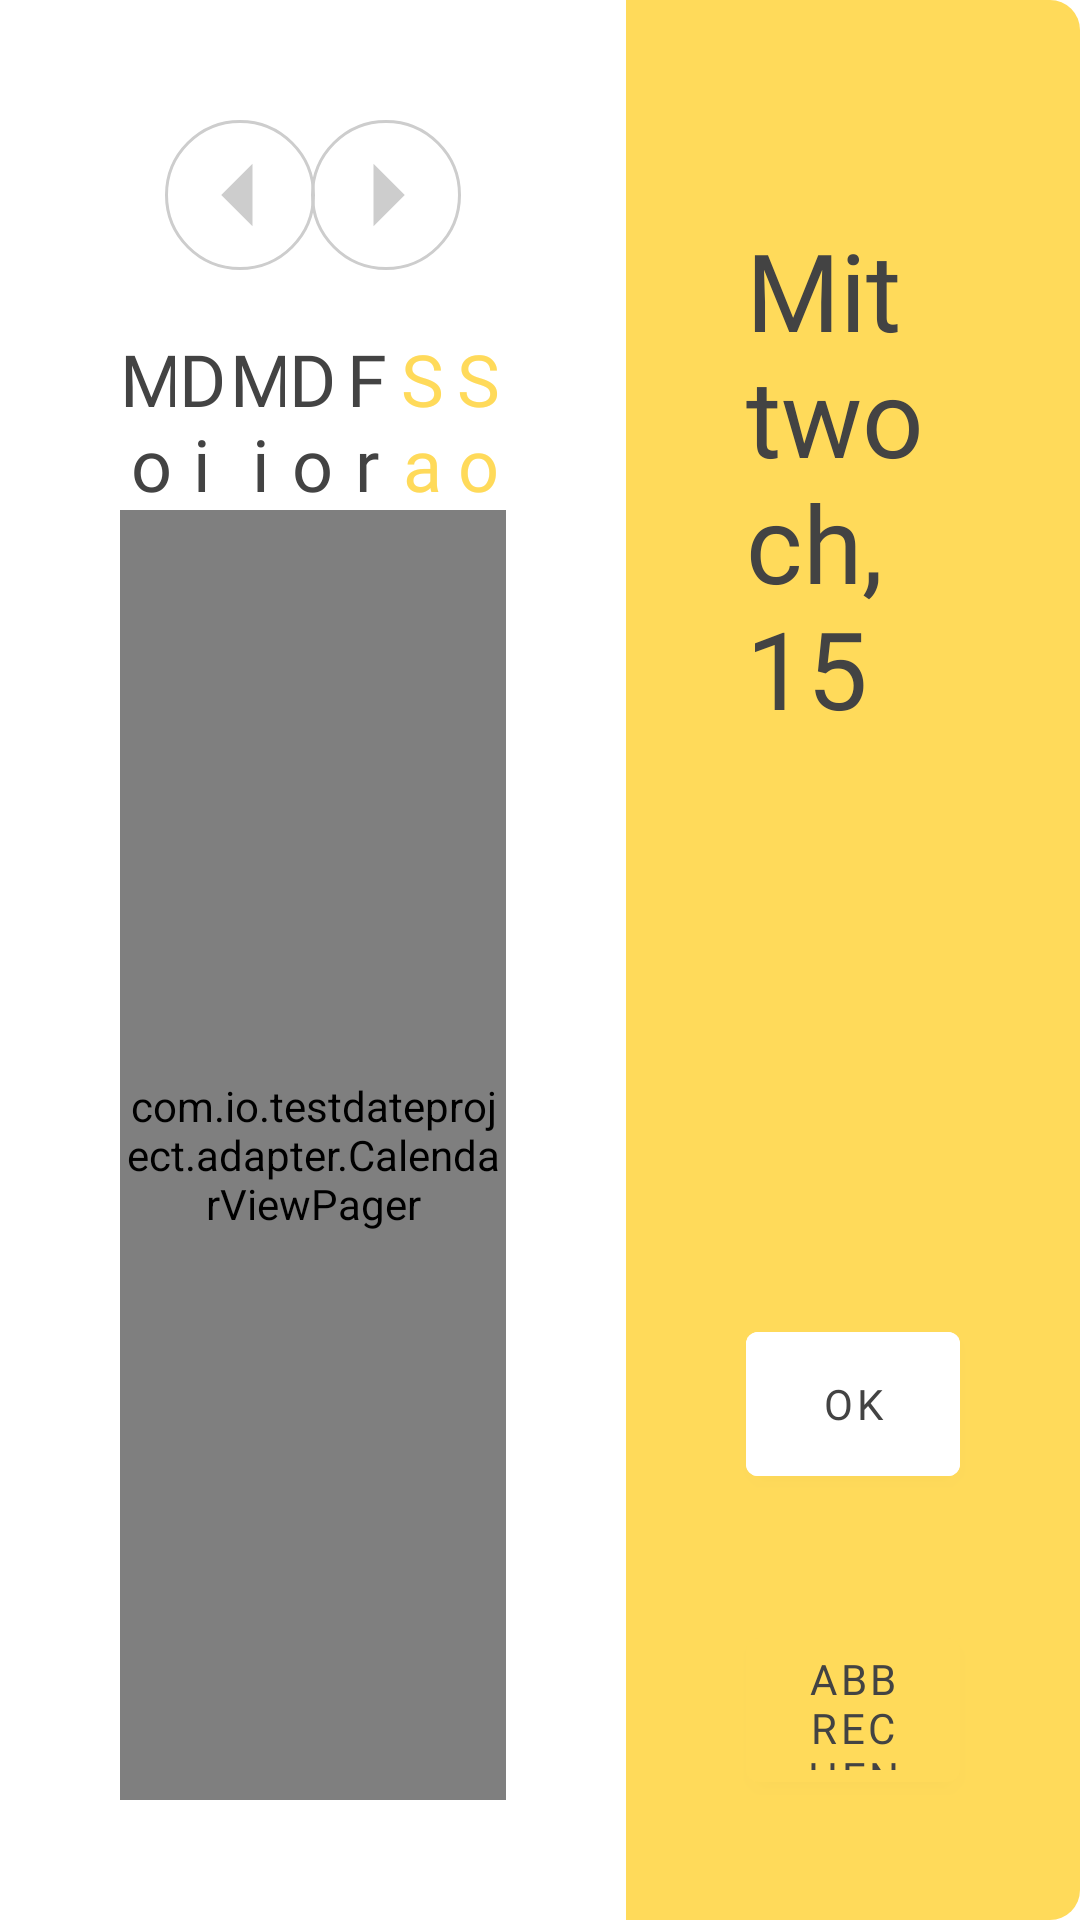

Icon click points for this 1080w x 1920h phone screenshot, format point (x, y):
left: point (240, 195)
right: point (386, 195)
